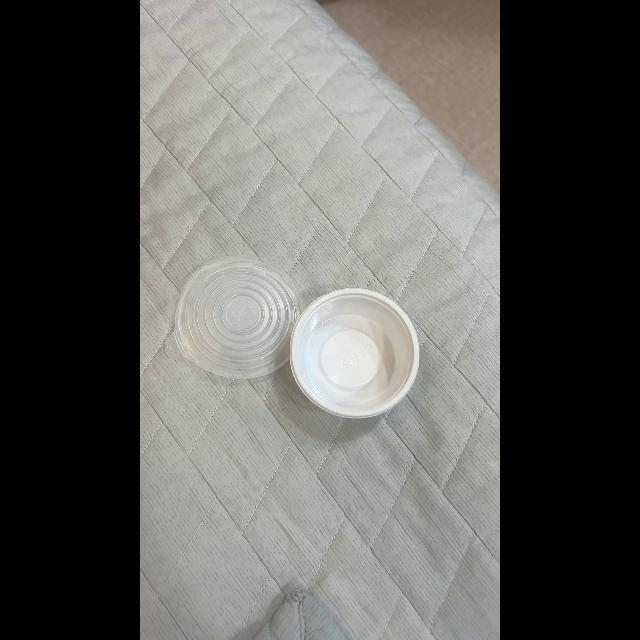clean: (175, 256, 427, 438)
